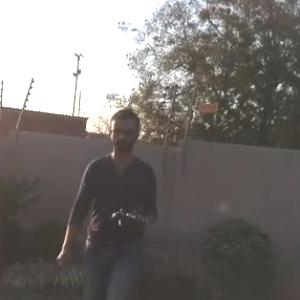follow: (47, 105, 163, 299)
